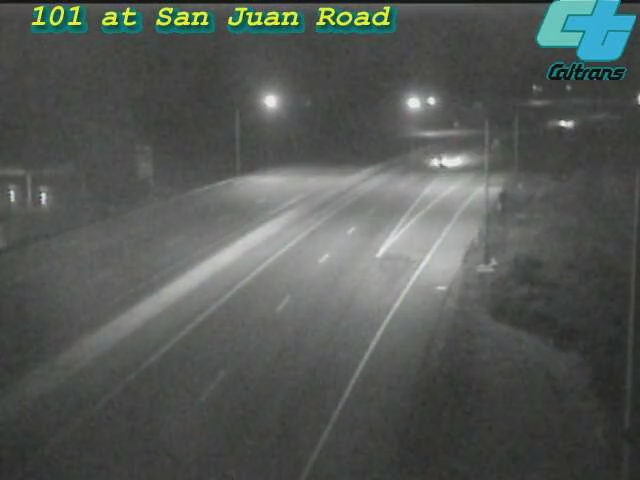vehicle: (539, 98, 589, 148), (414, 135, 464, 185)
